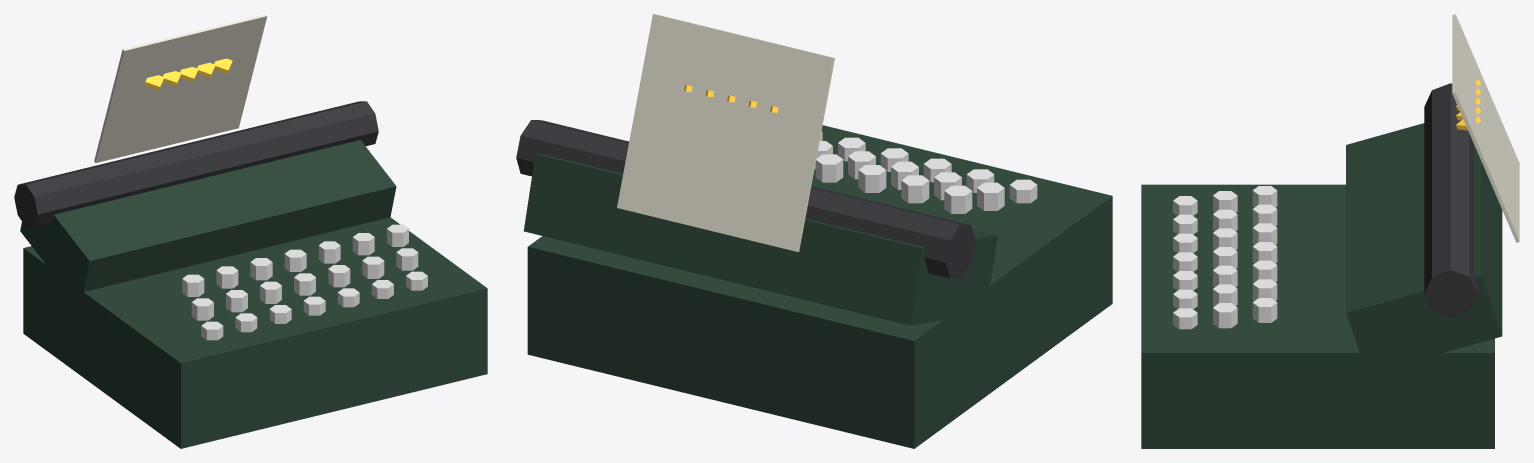
File: typewriter.glb
3 renders of one model, left to right at view 1: azimuth 30°, elevation 25°; view 2: azimuth 150°, elevation 25°; view 3: azimuth 270°, elevation 25°, orthographic. The views are drawn at different scales.
Parts seen in each view (by area): view 1: body_typewriter, paper_paper, roller_machine_dark, keys_white, paper_gold; view 2: body_typewriter, paper_paper, roller_machine_dark, keys_white; view 3: body_typewriter, roller_machine_dark, keys_white, paper_paper.
Boxes of the visible parts, x1,y1,x2,y2 form: body_typewriter: (20,140,487,448); paper_paper: (94,14,267,162); roller_machine_dark: (14,101,378,227); keys_white: (182,224,427,340); paper_gold: (144,58,232,89); body_typewriter: (523,125,1112,448); paper_paper: (617,14,834,251); roller_machine_dark: (516,120,975,278); keys_white: (814,131,1037,213); body_typewriter: (1141,123,1502,448); roller_machine_dark: (1424,83,1477,317); keys_white: (1173,186,1277,329); paper_paper: (1452,14,1519,242).
Size of the model in its own units: 0.5 by 0.3889 by 0.4281.
